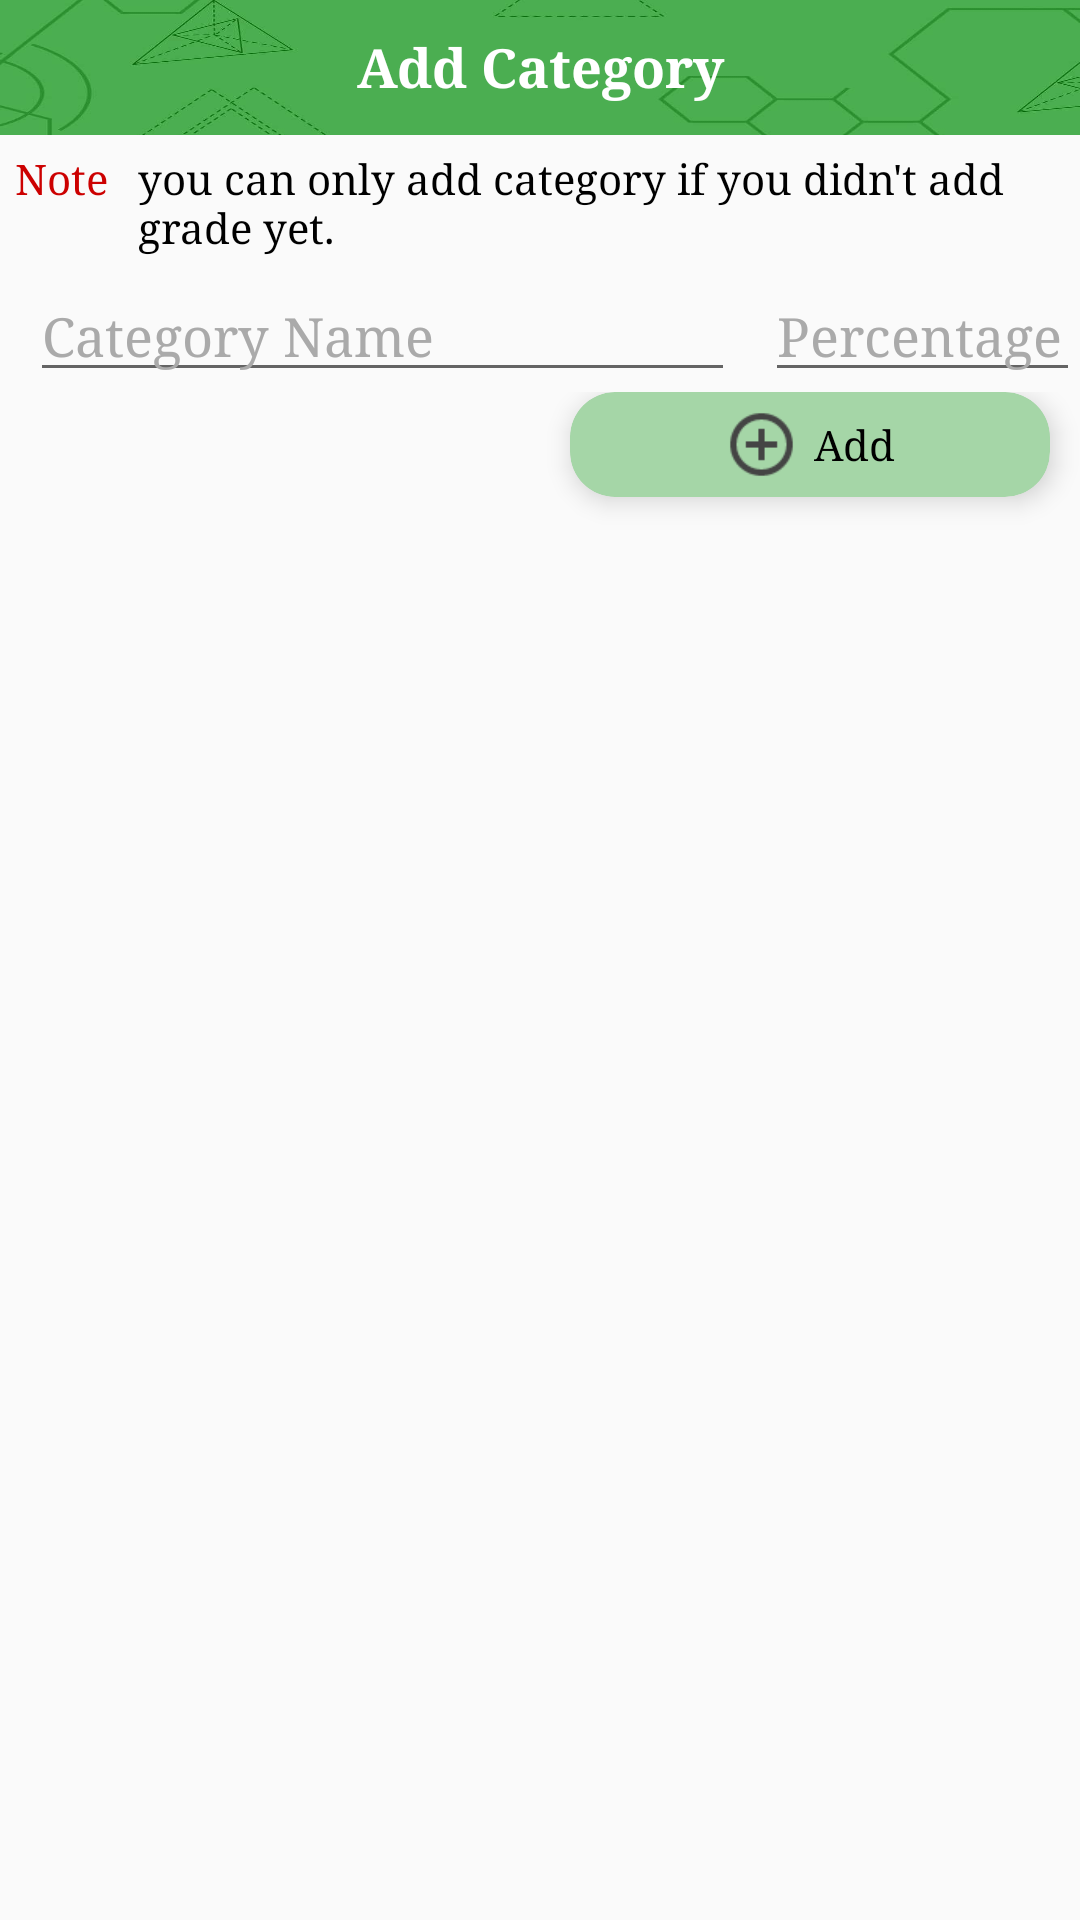

Icon bounding boxes for this 1080 x 1920 phone screenshot, format [x1=x1, y1=y1, x2=x2, y2=y2]:
plus circle: [x1=730, y1=413, x2=793, y2=476]
